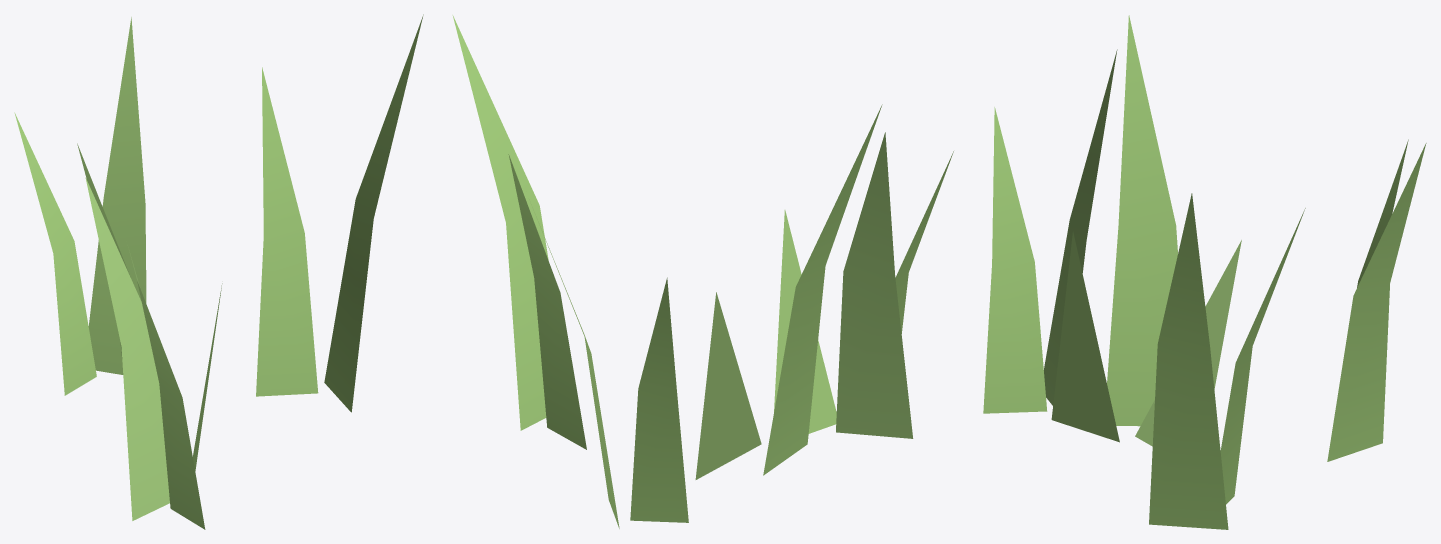
Rendered from Grass_a_TwoS_06.fbx.
The picture shows the model from 3 angles, left to right: view 1: azimuth 30°, elevation 25°; view 2: azimuth 150°, elevation 25°; view 3: azimuth 270°, elevation 25°; orthographic projection. The views are drawn at different scales.
Visible parts, largest first — view 1: Grass_a_TwoS_06; view 2: Grass_a_TwoS_06; view 3: Grass_a_TwoS_06.
Boxes of the visible parts, x1,y1,x2,y2 form: Grass_a_TwoS_06: [14, 14, 423, 529]; Grass_a_TwoS_06: [452, 15, 953, 528]; Grass_a_TwoS_06: [983, 15, 1426, 529].
Size of the model in its own units: 69.54 by 66.55 by 66.72.
